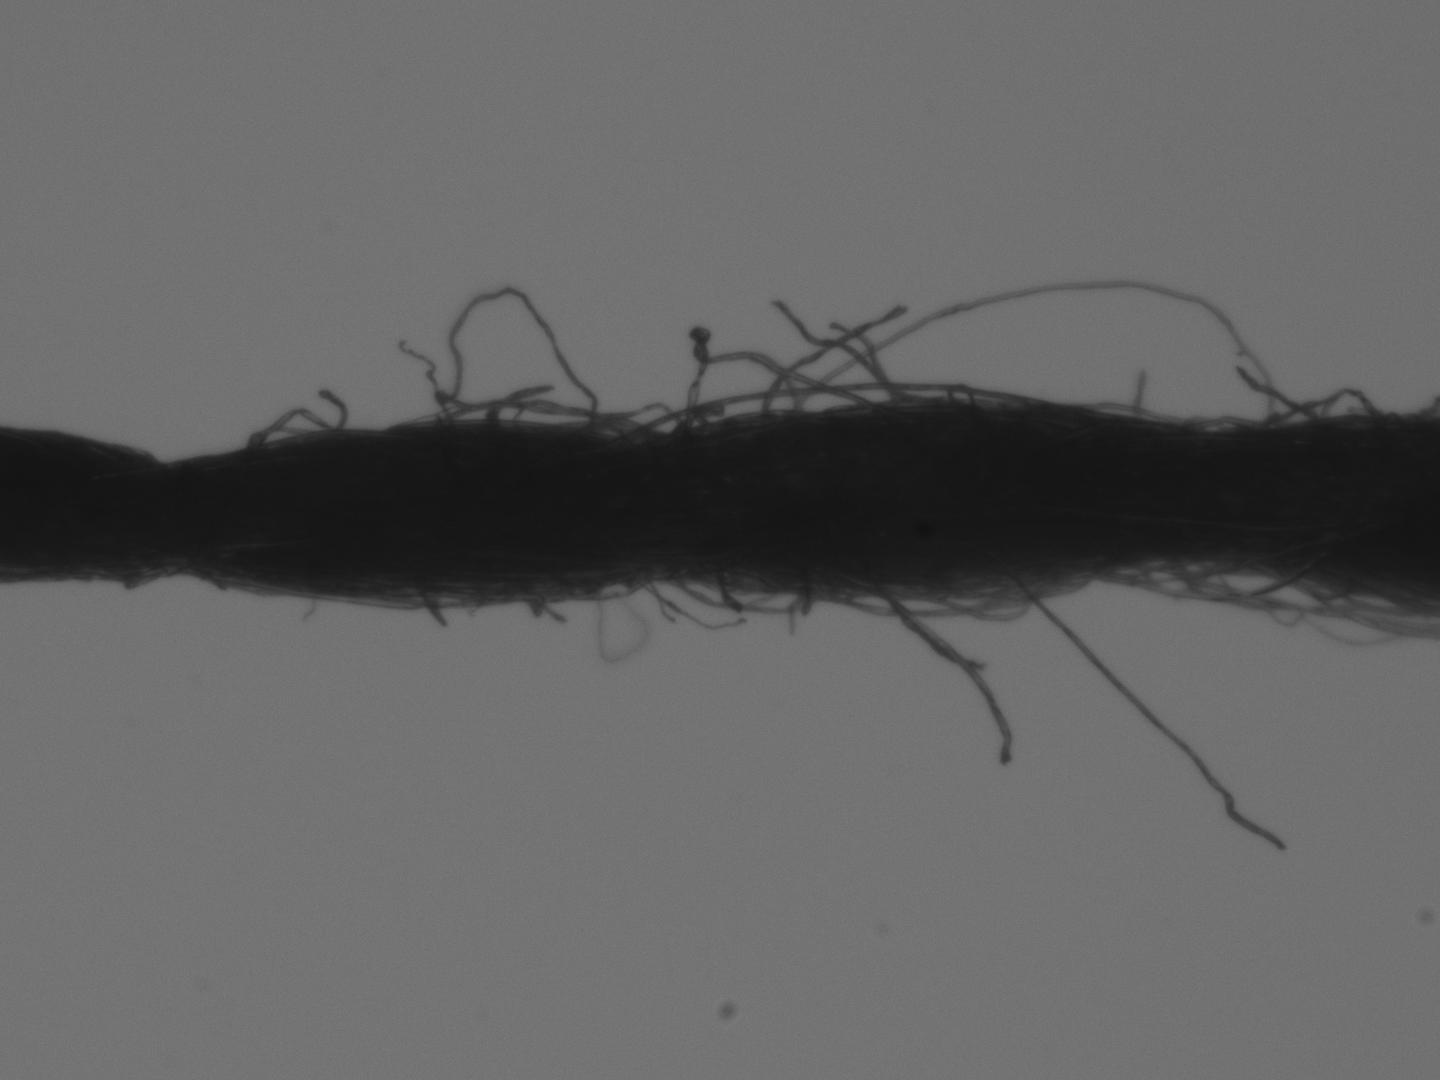loop_fiber: (791, 280, 1271, 429), (676, 323, 872, 433), (439, 288, 587, 428), (654, 380, 1034, 425), (1192, 389, 1399, 431), (897, 566, 1040, 625), (671, 569, 818, 618), (1164, 556, 1304, 601), (444, 403, 636, 432), (1260, 560, 1362, 601), (556, 565, 646, 604), (604, 400, 679, 431), (1322, 385, 1384, 420), (242, 424, 302, 449), (945, 377, 976, 407)
protruding_fiber: (1011, 571, 1297, 857), (412, 588, 452, 633)
